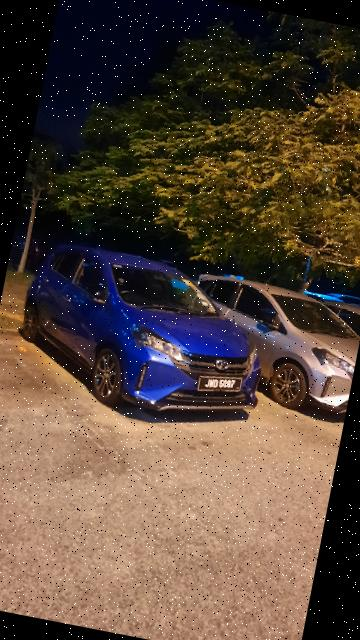License_Plate: (196, 370, 246, 401)
car: (8, 233, 285, 430), (178, 269, 360, 422)
